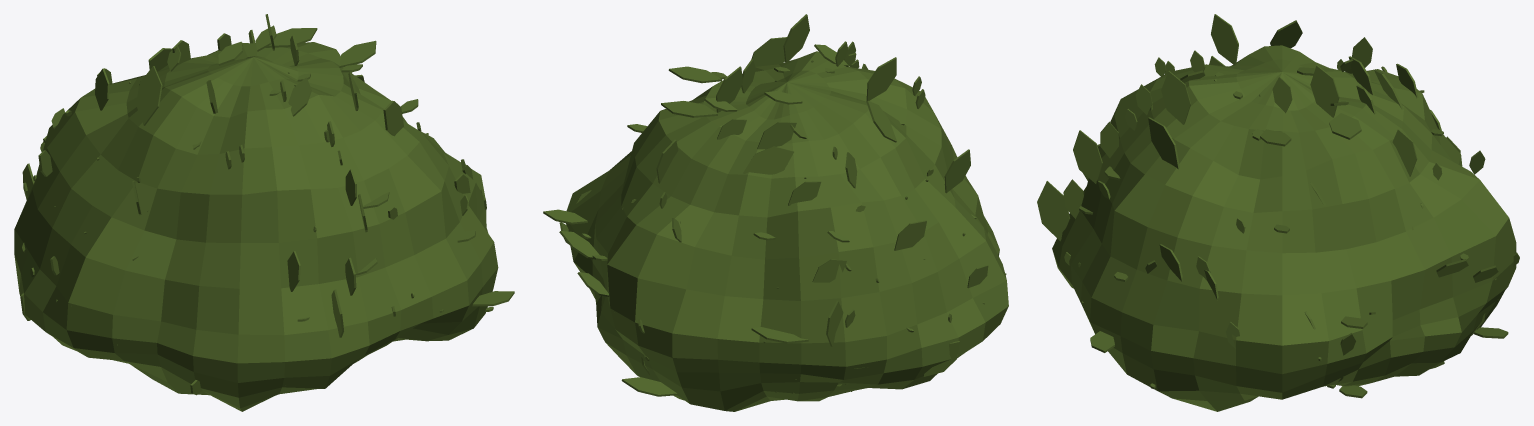
The model's file is Bush1.fbx.
3 views of the same model, side by side, from view 1: azimuth 30°, elevation 25°; view 2: azimuth 150°, elevation 25°; view 3: azimuth 270°, elevation 25° (orthographic). The views are drawn at different scales.
Parts seen in each view (by area): view 1: Sphere.006; view 2: Sphere.006; view 3: Sphere.006.
Part boxes in pixels (x1,y1,x2,y2): Sphere.006: [14, 14, 514, 411]; Sphere.006: [543, 14, 1008, 411]; Sphere.006: [1037, 14, 1519, 411].
Bounding box in the file's own units: 583 × 403 × 578.
